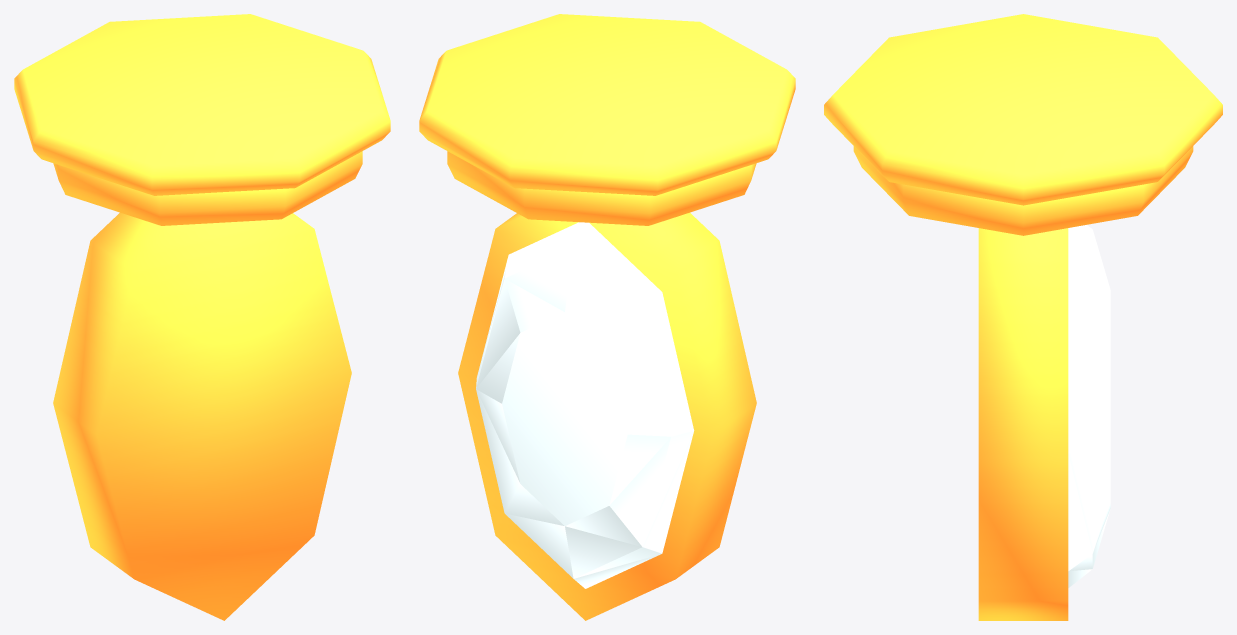
The model's file is gold_pommel_066.glb.
The picture shows the model from 3 angles, left to right: view 1: azimuth 30°, elevation 25°; view 2: azimuth 150°, elevation 25°; view 3: azimuth 270°, elevation 25°; orthographic projection. The views are drawn at different scales.
Parts seen in each view (by area): view 1: gold_pommel_066; view 2: gold_pommel_066; view 3: gold_pommel_066.
Part boxes in pixels (x1,y1,x2,y2): gold_pommel_066: (14,14,390,620); gold_pommel_066: (419,14,795,620); gold_pommel_066: (824,14,1222,620).
Size of the model in its own units: 2.26 by 3.29 by 2.26.
Materials: 1 (1 with a texture image).
